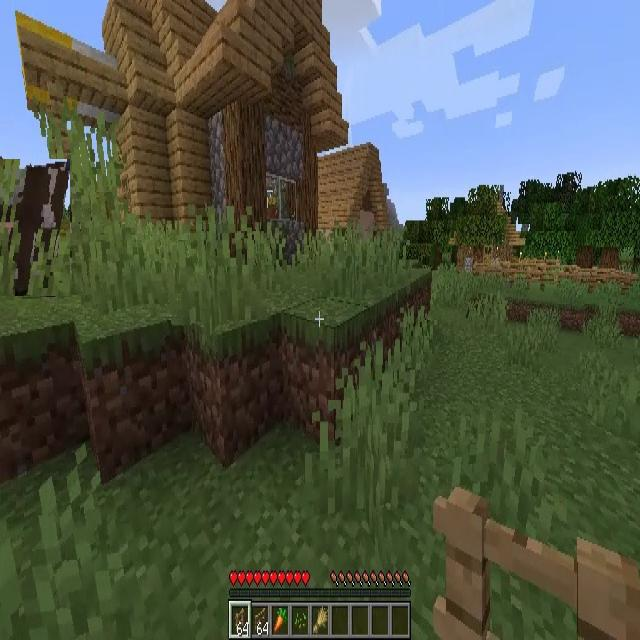cow: (0, 159, 70, 296)
